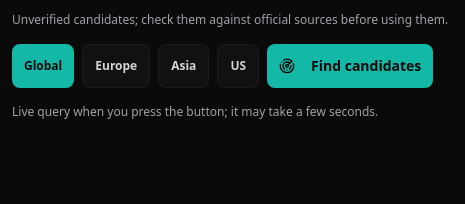
it: Pro Picks en inglés: joyas, deep value y radar global › el radar global sale en inglés
Check: the button "Europe" is shown, box [82,44,150,88]
Click the button "Find candidates" at [350, 66], box [267,44,433,88]
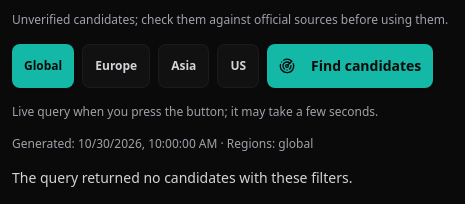
Check: the text "The query returned no candidates with these filters." is shown, box [12,168,352,187]
Check: the text "Regions: global" is shown, box [12,135,313,152]
